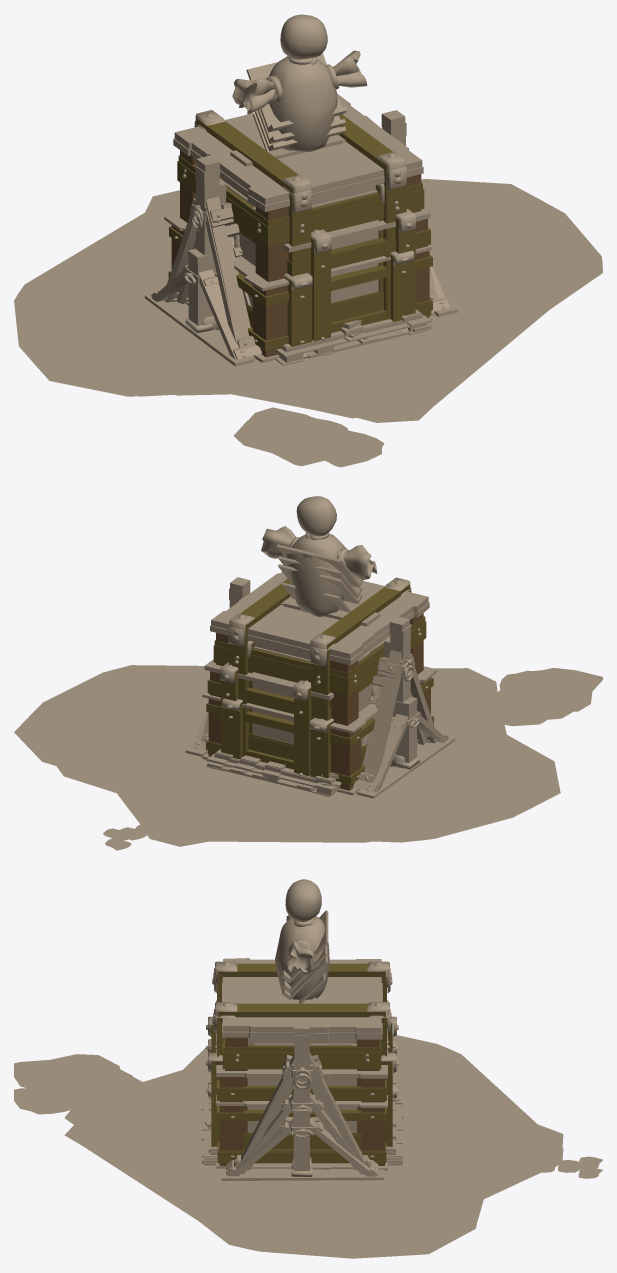
Rendered from clutter.glb.
3 renders of one model, top to bottom at view 1: azimuth 30°, elevation 25°; view 2: azimuth 150°, elevation 25°; view 3: azimuth 270°, elevation 25°, orthographic. The views are drawn at different scales.
Visible parts, largest first — view 1: clutter.bloodstain:condition-overgrown, object.prop.box:visual-base, object.prop.box:condition-weathered, object.prop.box:condition-overgrown, object.corpse.skeleton:visual-base, object.prop.box:condition-damaged, clutter.weapon-rack:condition-overgrown, clutter.weapon-rack:condition-weathered, clutter.weapon-rack:visual-base, clutter.bloodstain:condition-damaged, clutter.hay-bale:condition-overgrown, environment.palace.device:state-activated (+5 smaller); view 2: clutter.bloodstain:condition-overgrown, object.prop.box:visual-base, object.prop.box:condition-weathered, object.prop.box:condition-damaged, object.prop.box:condition-overgrown, object.corpse.skeleton:visual-base, clutter.weapon-rack:condition-overgrown, clutter.weapon-rack:condition-weathered, clutter.weapon-rack:visual-base, clutter.bloodstain:condition-damaged, clutter.bloodstain:visual-base, clutter.hay-bale:condition-overgrown (+8 smaller); view 3: clutter.bloodstain:condition-overgrown, object.prop.box:visual-base, object.prop.box:condition-damaged, object.prop.box:condition-weathered, object.prop.box:condition-overgrown, clutter.weapon-rack:condition-overgrown, object.corpse.skeleton:visual-base, clutter.bloodstain:condition-damaged, clutter.weapon-rack:condition-weathered, clutter.weapon-rack:condition-damaged, clutter.weapon-rack:visual-base, clutter.bloodstain:visual-base (+1 smaller).
Boxes of the visible parts, x1,y1,x2,y2 form: clutter.bloodstain:condition-overgrown: (14, 179, 602, 466); object.prop.box:visual-base: (174, 94, 422, 311); object.prop.box:condition-weathered: (173, 121, 424, 327); object.prop.box:condition-overgrown: (164, 213, 432, 362); object.corpse.skeleton:visual-base: (232, 14, 367, 151); object.prop.box:condition-damaged: (283, 209, 431, 341); clutter.weapon-rack:condition-overgrown: (144, 248, 457, 366); clutter.weapon-rack:condition-weathered: (164, 122, 438, 358); clutter.weapon-rack:visual-base: (168, 110, 435, 357); clutter.bloodstain:condition-damaged: (175, 311, 547, 467); clutter.hay-bale:condition-overgrown: (275, 314, 431, 365); environment.palace.device:state-activated: (246, 53, 347, 132); clutter.bloodstain:condition-overgrown: (14, 665, 602, 842); object.prop.box:visual-base: (211, 572, 428, 750); object.prop.box:condition-weathered: (210, 587, 429, 764); object.prop.box:condition-damaged: (204, 659, 333, 776); object.prop.box:condition-overgrown: (202, 666, 437, 795); object.corpse.skeleton:visual-base: (261, 496, 377, 616); clutter.weapon-rack:condition-overgrown: (185, 696, 455, 798); clutter.weapon-rack:condition-weathered: (200, 588, 436, 782); clutter.weapon-rack:visual-base: (203, 577, 433, 790); clutter.bloodstain:condition-damaged: (57, 670, 531, 850); clutter.bloodstain:visual-base: (121, 681, 570, 839); clutter.hay-bale:condition-overgrown: (206, 754, 341, 796); clutter.bloodstain:condition-overgrown: (14, 1034, 602, 1258); object.prop.box:visual-base: (213, 958, 391, 1135); object.prop.box:condition-damaged: (206, 1016, 398, 1163); object.prop.box:condition-weathered: (212, 968, 392, 1149); object.prop.box:condition-overgrown: (206, 1039, 398, 1170); clutter.weapon-rack:condition-overgrown: (221, 1108, 384, 1180); object.corpse.skeleton:visual-base: (275, 879, 329, 999); clutter.bloodstain:condition-damaged: (14, 1088, 602, 1219); clutter.weapon-rack:condition-weathered: (233, 1035, 370, 1168); clutter.weapon-rack:condition-damaged: (241, 1076, 363, 1174); clutter.weapon-rack:visual-base: (235, 1022, 369, 1169); clutter.bloodstain:visual-base: (40, 1069, 579, 1172).
Size of the model in its own units: 3.69 by 2.03 by 3.85.
